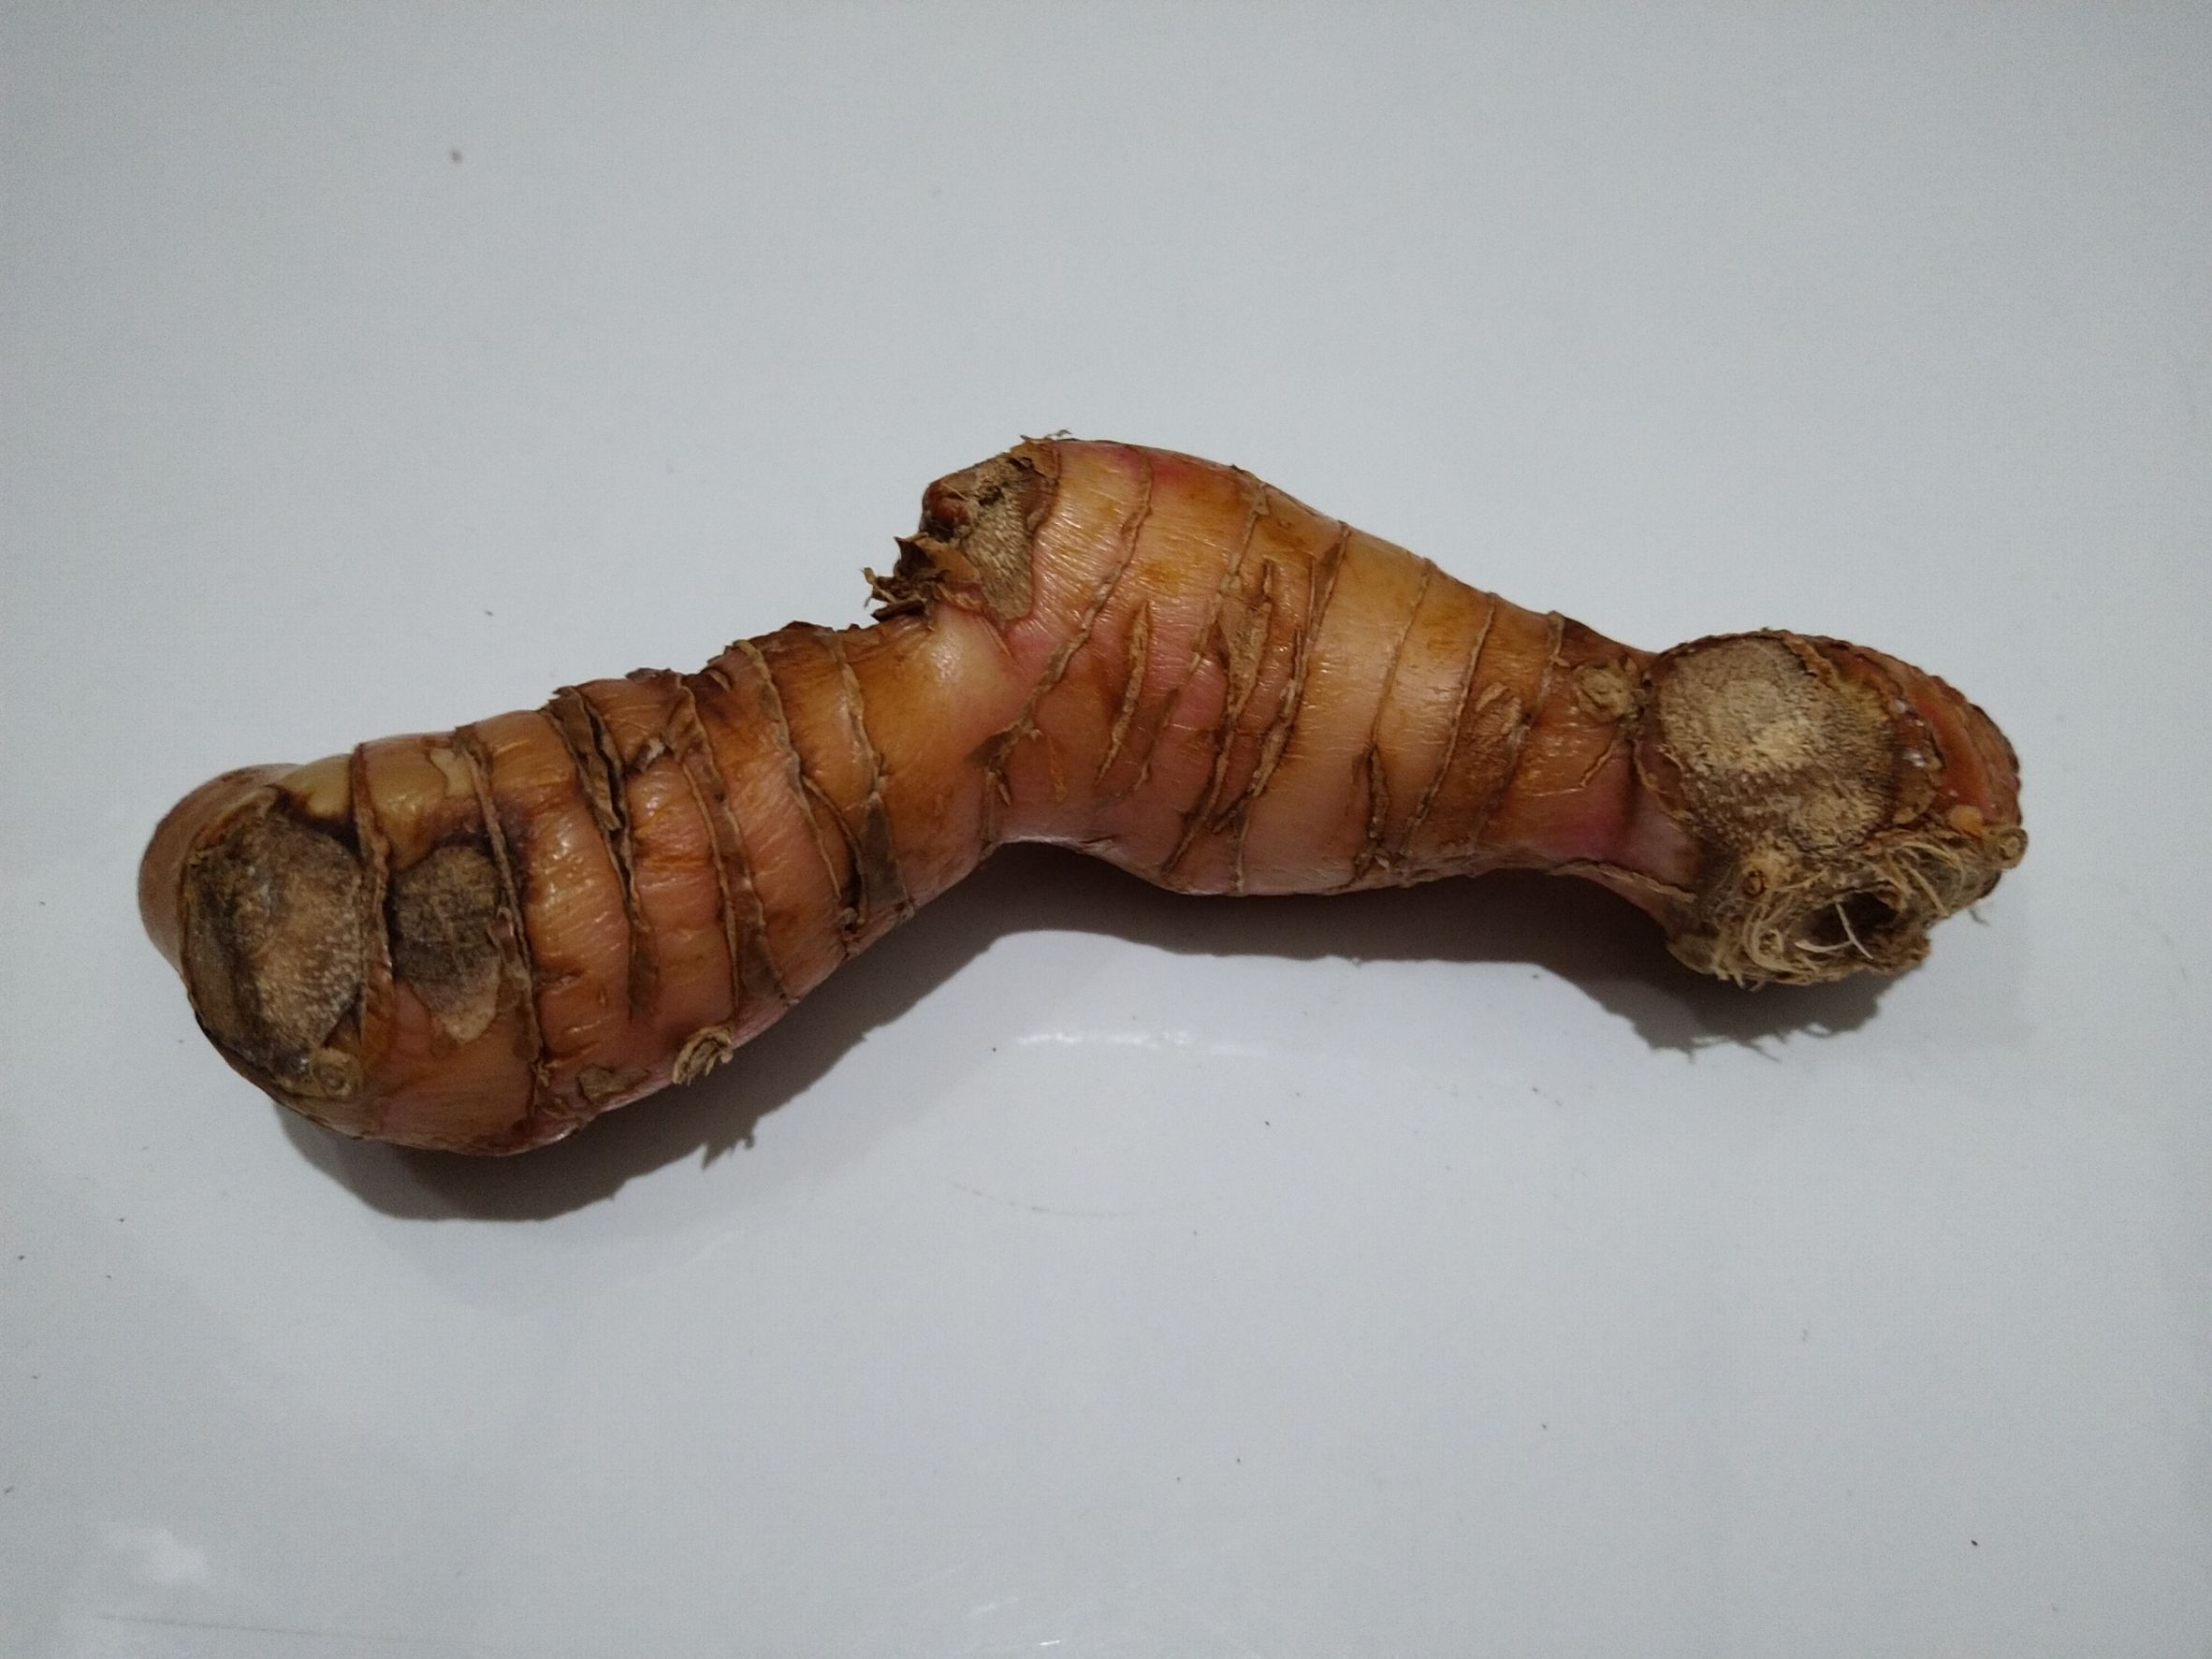Lengkuas: (153, 441, 2026, 1162)
